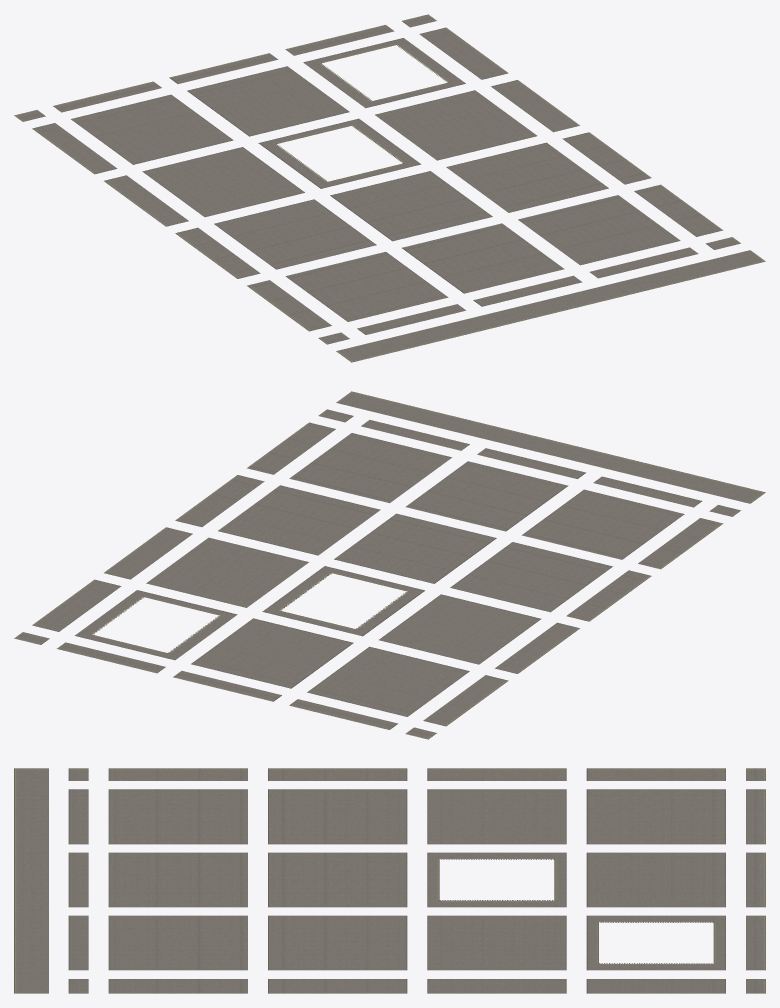
File: paving_visual.dae
The picture shows the model from 3 angles, top to bottom: view 1: azimuth 30°, elevation 25°; view 2: azimuth 150°, elevation 25°; view 3: azimuth 270°, elevation 25°; orthographic projection. The views are drawn at different scales.
Visible parts, largest first — view 1: Terrain; view 2: Terrain; view 3: Terrain.
Boxes of the visible parts, x1,y1,x2,y2 form: Terrain: [14, 14, 765, 362]; Terrain: [14, 391, 765, 739]; Terrain: [14, 768, 765, 993].
Bounding box in the file's own units: 535 × 755 × 0.
Materials: 1 (1 with a texture image).
